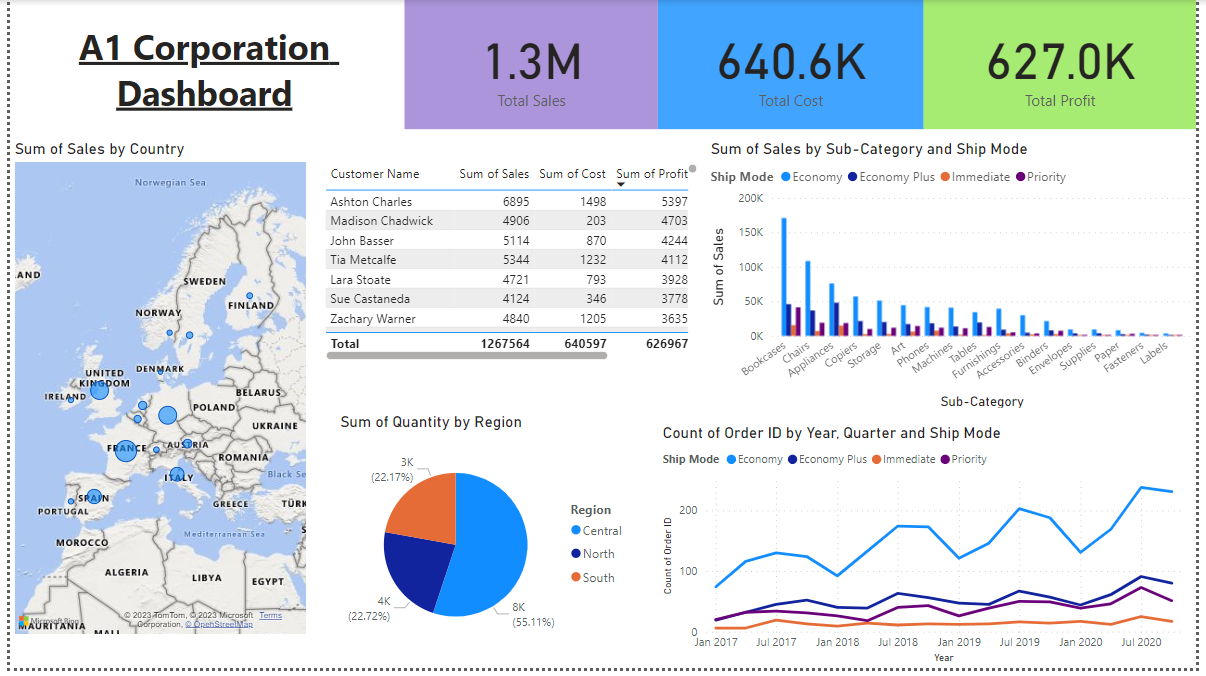

The page's visual inventory and layout, read from the dashboard file:
{"tool":"powerbi","page":{"name":"Page 1","canvas":[1280,720],"ordinal":0},"visuals":[{"type":"card","fields":{"Values":["List of Orders.Sales"]},"box":[425.5,0,273.4,139.1],"z":0},{"type":"card","fields":{"Values":["List of Orders.Cost"]},"box":[699,0,286.4,139.1],"z":1000},{"type":"card","fields":{"Values":["List of Orders.Profit"]},"box":[985.3,0,294.5,139.1],"z":2000},{"type":"tableEx","fields":{"Values":["List of Orders.Customer Name","List of Orders.Sales","List of Orders.Cost","List of Orders.Profit","List of Orders.Quantity"]},"box":[334.9,171.5,411,221.7],"z":3000},{"type":"clusteredColumnChart","fields":{"Y":["List of Orders.Sales"],"Category":["List of Orders.Sub-Category"],"Series":["List of Orders.Ship Mode"]},"box":[750.7,150.5,529.1,294.5],"z":4000},{"type":"pieChart","fields":{"Y":["List of Orders.Quantity"],"Category":["List of Orders.Region"]},"box":[351.1,444.9,323.6,265.3],"z":5000},{"type":"lineChart","fields":{"Category":["List of Orders.Order Date.Variation.Date Hierarchy.Year","List of Orders.Order Date.Variation.Date Hierarchy.Quarter"],"Y":["List of Orders.Order ID"],"Series":["List of Orders.Ship Mode"]},"box":[699,456.3,580.9,263.7],"z":5001},{"type":"map","fields":{"Size":["List of Orders.Sales"],"Category":["List of Orders.Country"]},"box":[0,150.5,323.6,538.8],"z":5002},{"type":"textbox","box":[29.1,19.4,360.8,119.7],"z":5003}]}

Visuals, with their boxes in screenshot pixels (x1, y1, x2, y2), scaled from the page's 1280x720 canvas onto the 1206x676 screenshot:
card - List of Orders.Sales: <box>401,0,658,131</box>
card - List of Orders.Cost: <box>659,0,928,131</box>
card - List of Orders.Profit: <box>928,0,1205,131</box>
tableEx - List of Orders.Customer Name x List of Orders.Sales: <box>316,161,703,369</box>
clusteredColumnChart - List of Orders.Sales x List of Orders.Sub-Category: <box>707,141,1205,418</box>
pieChart - List of Orders.Quantity x List of Orders.Region: <box>331,418,636,667</box>
lineChart - List of Orders.Order Date.Variation.Date Hierarchy.Year x List of Orders.Order Date.Variation.Date Hierarchy.Quarter: <box>659,428,1205,675</box>
map - List of Orders.Sales x List of Orders.Country: <box>0,141,305,647</box>
textbox: <box>27,18,367,131</box>
